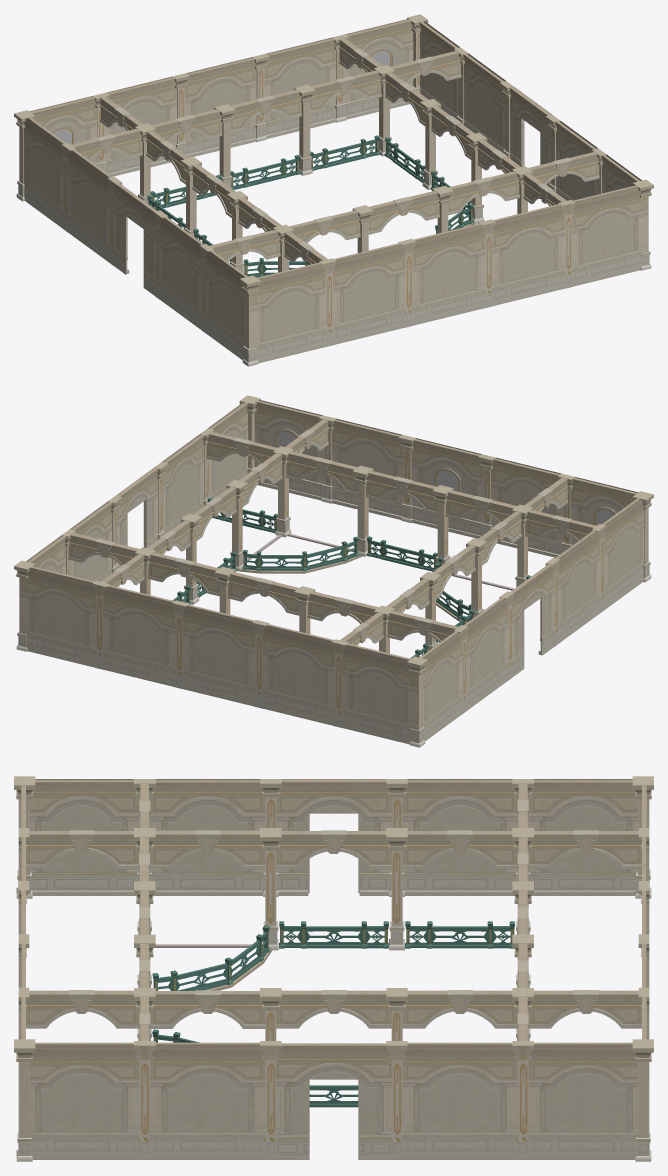
File: Homeworld_Interior_Fd_Room_Q_Wall_01_Vo.fbx
3 renders of one model, top to bottom at view 1: azimuth 30°, elevation 25°; view 2: azimuth 150°, elevation 25°; view 3: azimuth 270°, elevation 25°, orthographic. The views are drawn at different scales.
Visible parts, largest first — view 1: Homeworld_Interior_Fd_Room_Q_Filling_01_Vo, Homeworld_Interior_Fd_Room_Wall_01_Vo (×7), Homeworld_Interior_Fd_Room_Wall_05_Vo (×10), Homeworld_Interior_Fd_Room_Pillar_01_Vo (×13), Homeworld_Interior_Fd_Room_Pillar_02_Vo (×10), Homeworld_Interior_Fd_Room_Wall_04_Vo (×6), Homeworld_Interior_Fd_Room_Wall_09_Vo (×2), Homeworld_Interior_Fd_Room_Wall_02_Vo (×2), Homeworld_Interior_Fd_Room_Wall_06_Vo (×2); view 2: Homeworld_Interior_Fd_Room_Q_Filling_01_Vo, Homeworld_Interior_Fd_Room_Wall_01_Vo (×6), Homeworld_Interior_Fd_Room_Wall_05_Vo (×10), Homeworld_Interior_Fd_Room_Pillar_01_Vo (×13), Homeworld_Interior_Fd_Room_Wall_02_Vo (×3), Homeworld_Interior_Fd_Room_Wall_09_Vo (×2), Homeworld_Interior_Fd_Room_Pillar_02_Vo (×10), Homeworld_Interior_Fd_Room_Wall_04_Vo (×6), Homeworld_Interior_Fd_Room_Wall_06_Vo (×2); view 3: Homeworld_Interior_Fd_Room_Q_Filling_01_Vo, Homeworld_Interior_Fd_Room_Wall_01_Vo (×4), Homeworld_Interior_Fd_Room_Wall_05_Vo (×5), Homeworld_Interior_Fd_Room_Wall_06_Vo (×2), Homeworld_Interior_Fd_Room_Wall_04_Vo (×5), Homeworld_Interior_Fd_Room_Wall_09_Vo (×2), Homeworld_Interior_Fd_Room_Pillar_01_Vo (×8), Homeworld_Interior_Fd_Room_Pillar_02_Vo (×6).
Part boxes in pixels (box(x1,y1,x2,y2)): Homeworld_Interior_Fd_Room_Q_Filling_01_Vo: box(23, 19, 648, 363); Homeworld_Interior_Fd_Room_Wall_01_Vo (×7): box(104, 21, 646, 252); Homeworld_Interior_Fd_Room_Wall_05_Vo (×10): box(146, 70, 599, 262); Homeworld_Interior_Fd_Room_Pillar_01_Vo (×13): box(14, 14, 487, 366); Homeworld_Interior_Fd_Room_Pillar_02_Vo (×10): box(107, 34, 575, 347); Homeworld_Interior_Fd_Room_Wall_04_Vo (×6): box(64, 38, 571, 264); Homeworld_Interior_Fd_Room_Wall_09_Vo (×2): box(238, 139, 520, 277); Homeworld_Interior_Fd_Room_Wall_02_Vo (×2): box(30, 19, 413, 165); Homeworld_Interior_Fd_Room_Wall_06_Vo (×2): box(113, 87, 551, 295); Homeworld_Interior_Fd_Room_Q_Filling_01_Vo: box(19, 400, 644, 744); Homeworld_Interior_Fd_Room_Wall_01_Vo (×6): box(21, 402, 563, 633); Homeworld_Interior_Fd_Room_Wall_05_Vo (×10): box(147, 432, 596, 658); Homeworld_Interior_Fd_Room_Pillar_01_Vo (×13): box(180, 395, 653, 747); Homeworld_Interior_Fd_Room_Wall_02_Vo (×3): box(254, 400, 637, 546); Homeworld_Interior_Fd_Room_Wall_09_Vo (×2): box(236, 451, 521, 623); Homeworld_Interior_Fd_Room_Pillar_02_Vo (×10): box(92, 415, 606, 728); Homeworld_Interior_Fd_Room_Wall_04_Vo (×6): box(68, 419, 567, 669); Homeworld_Interior_Fd_Room_Wall_06_Vo (×2): box(116, 468, 554, 676); Homeworld_Interior_Fd_Room_Q_Filling_01_Vo: box(18, 779, 649, 1159); Homeworld_Interior_Fd_Room_Wall_01_Vo (×4): box(18, 780, 649, 895); Homeworld_Interior_Fd_Room_Wall_05_Vo (×5): box(139, 830, 517, 1107); Homeworld_Interior_Fd_Room_Wall_06_Vo (×2): box(276, 779, 391, 1159); Homeworld_Interior_Fd_Room_Wall_04_Vo (×5): box(26, 830, 641, 1081); Homeworld_Interior_Fd_Room_Wall_09_Vo (×2): box(139, 830, 272, 1042); Homeworld_Interior_Fd_Room_Pillar_01_Vo (×8): box(14, 776, 653, 1161); Homeworld_Interior_Fd_Room_Pillar_02_Vo (×6): box(134, 779, 533, 1159).
Size of what is drawn, in the model's own units: 25.5 by 5.15 by 25.37.
